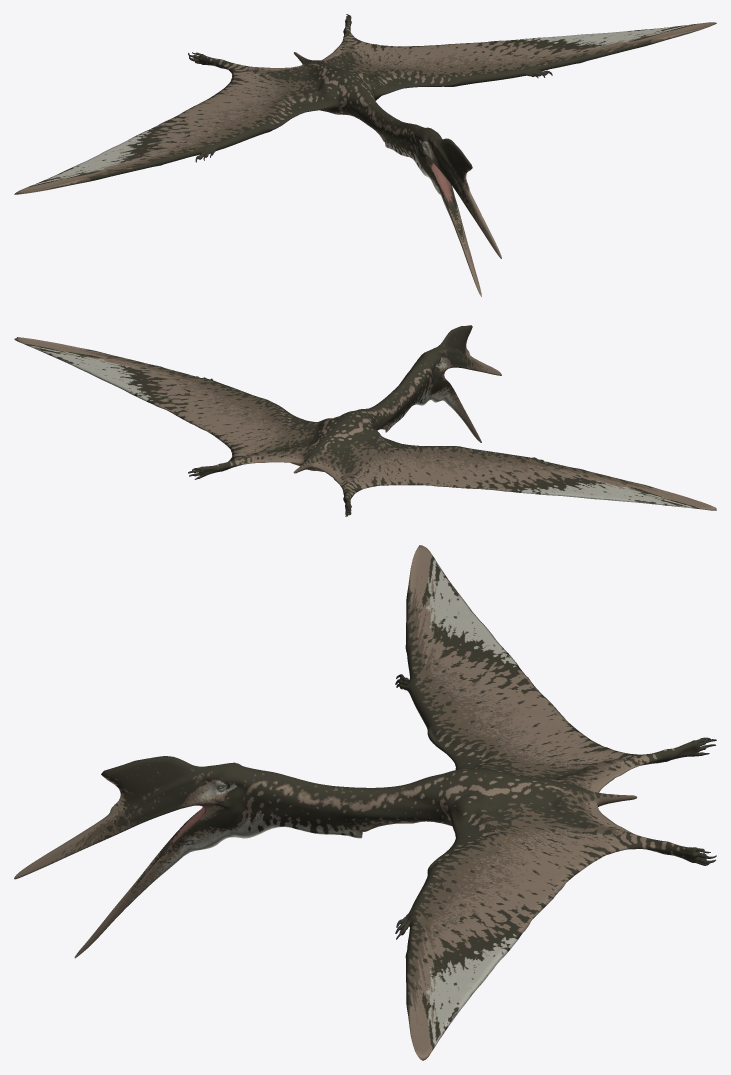
The model's file is Quetzalcoatlus.glb.
The picture shows the model from 3 angles, top to bottom: view 1: azimuth 30°, elevation 25°; view 2: azimuth 150°, elevation 25°; view 3: azimuth 270°, elevation 25°; orthographic projection. The views are drawn at different scales.
Parts seen in each view (by area): view 1: DW_Quetzalcoatlus_Adulto_Mayor_mesh; view 2: DW_Quetzalcoatlus_Adulto_Mayor_mesh; view 3: DW_Quetzalcoatlus_Adulto_Mayor_mesh.
Part boxes in pixels (box(x1,y1,x2,y2)): DW_Quetzalcoatlus_Adulto_Mayor_mesh: box(14, 14, 716, 296); DW_Quetzalcoatlus_Adulto_Mayor_mesh: box(14, 325, 716, 516); DW_Quetzalcoatlus_Adulto_Mayor_mesh: box(14, 545, 716, 1060).
Size of the model in its own units: 1 by 0.1833 by 0.5768.
Materials: 2 (2 with a texture image).
